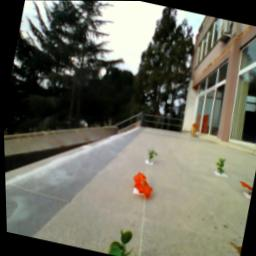herb: (104, 225, 138, 256), (213, 157, 227, 176), (143, 149, 157, 165)
wild: (128, 171, 156, 202), (236, 180, 253, 196)
